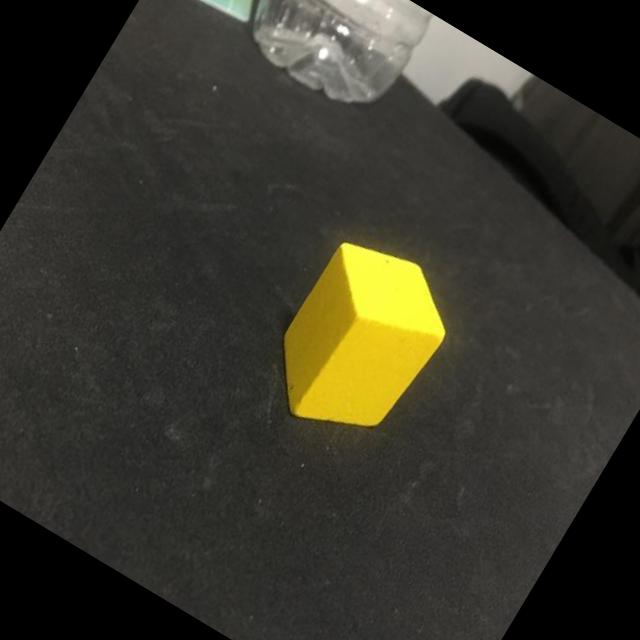yellow: (250, 225, 470, 464)
